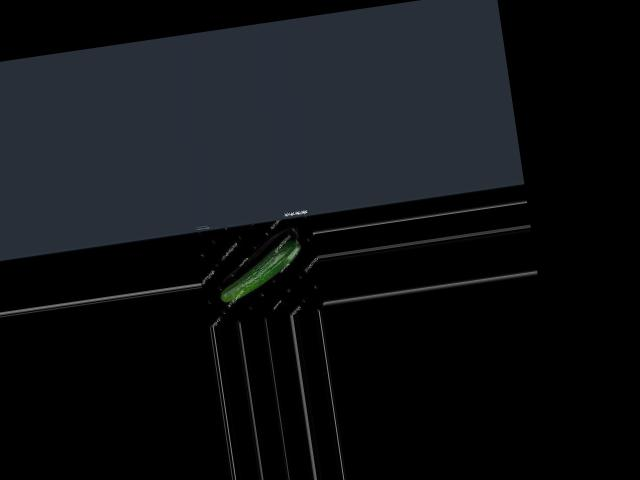cucumber: (212, 237, 306, 303)
